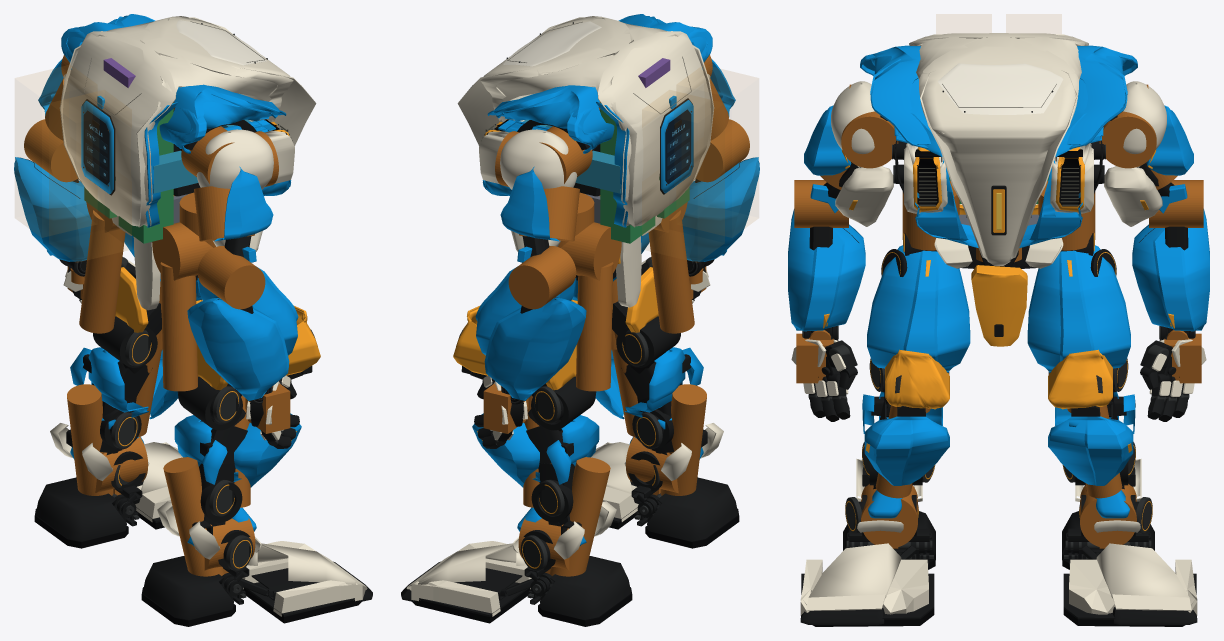
Rendered from internal_architecture_a_central_hydraulic.glb.
The picture shows the model from 3 angles, left to right: view 1: azimuth 30°, elevation 25°; view 2: azimuth 150°, elevation 25°; view 3: azimuth 270°, elevation 25°; orthographic projection. The views are drawn at different scales.
Visible parts, largest first — view 1: continuous_ivory_torso_armor_cover, internal_ia_right_battery_removal_space_envelope, right_blue_forearm_wrap, internal_ia_left_battery_removal_space_envelope, left_blue_forearm_wrap, right_ivory_hood_window_side_lip, internal_ia_central_hydraulic_right_hip_pitch_envelope, internal_ia_central_hydraulic_left_hip_pitch_envelope, left_composite_high_heel_shell, right_composite_high_heel_shell, right_ivory_shoulder_cap, internal_ia_central_hydraulic_right_ankle_pitch_envelope (+59 smaller); view 2: continuous_ivory_torso_armor_cover, internal_ia_left_battery_removal_space_envelope, left_blue_forearm_wrap, internal_ia_right_battery_removal_space_envelope, right_blue_forearm_wrap, left_ivory_hood_window_side_lip, internal_ia_central_hydraulic_left_hip_pitch_envelope, internal_ia_central_hydraulic_right_hip_pitch_envelope, right_composite_high_heel_shell, left_composite_high_heel_shell, left_ivory_shoulder_cap, internal_ia_central_hydraulic_left_ankle_pitch_envelope (+59 smaller); view 3: continuous_ivory_torso_armor_cover, left_blue_thigh_wrap, right_blue_thigh_wrap, left_blue_forearm_wrap, right_blue_forearm_wrap, ivory_crown_inset, left_blue_middle_shank_wrap, right_blue_middle_shank_wrap, saffron_front_pelvis_cartridge, left_ivory_artwork_sloping_toe, right_ivory_artwork_sloping_toe, left_yellow_front_knee_insert (+51 smaller).
Boxes of the visible parts, x1=… form: continuous_ivory_torso_armor_cover: x1=63, y1=16, x2=293, y2=226; internal_ia_right_battery_removal_space_envelope: x1=49, y1=90, x2=131, y2=262; right_blue_forearm_wrap: x1=187, y1=298, x2=289, y2=400; internal_ia_left_battery_removal_space_envelope: x1=15, y1=65, x2=96, y2=236; left_blue_forearm_wrap: x1=14, y1=157, x2=91, y2=261; right_ivory_hood_window_side_lip: x1=136, y1=53, x2=316, y2=227; internal_ia_central_hydraulic_right_hip_pitch_envelope: x1=160, y1=262, x2=197, y2=391; internal_ia_central_hydraulic_left_hip_pitch_envelope: x1=79, y1=210, x2=125, y2=333; left_composite_high_heel_shell: x1=35, y1=477, x2=126, y2=541; right_composite_high_heel_shell: x1=143, y1=556, x2=233, y2=619; right_ivory_shoulder_cap: x1=196, y1=129, x2=273, y2=189; internal_ia_central_hydraulic_right_ankle_pitch_envelope: x1=163, y1=457, x2=224, y2=576; continuous_ivory_torso_armor_cover: x1=480, y1=16, x2=710, y2=226; internal_ia_left_battery_removal_space_envelope: x1=642, y1=90, x2=724, y2=262; left_blue_forearm_wrap: x1=484, y1=298, x2=586, y2=400; internal_ia_right_battery_removal_space_envelope: x1=677, y1=65, x2=758, y2=236; right_blue_forearm_wrap: x1=682, y1=157, x2=759, y2=261; left_ivory_hood_window_side_lip: x1=457, y1=53, x2=637, y2=227; internal_ia_central_hydraulic_left_hip_pitch_envelope: x1=576, y1=262, x2=613, y2=391; internal_ia_central_hydraulic_right_hip_pitch_envelope: x1=648, y1=210, x2=694, y2=333; right_composite_high_heel_shell: x1=647, y1=477, x2=738, y2=541; left_composite_high_heel_shell: x1=540, y1=556, x2=630, y2=619; left_ivory_shoulder_cap: x1=500, y1=129, x2=577, y2=189; internal_ia_central_hydraulic_left_ankle_pitch_envelope: x1=549, y1=457, x2=610, y2=576; continuous_ivory_torso_armor_cover: x1=909, y1=33, x2=1088, y2=265; left_blue_thigh_wrap: x1=1027, y1=245, x2=1130, y2=372; right_blue_thigh_wrap: x1=867, y1=245, x2=970, y2=372; left_blue_forearm_wrap: x1=1132, y1=209, x2=1209, y2=331; right_blue_forearm_wrap: x1=788, y1=209, x2=865, y2=331; ivory_crown_inset: x1=938, y1=63, x2=1063, y2=114; left_blue_middle_shank_wrap: x1=1048, y1=416, x2=1133, y2=485; right_blue_middle_shank_wrap: x1=864, y1=416, x2=949, y2=485; saffron_front_pelvis_cartridge: x1=971, y1=265, x2=1027, y2=346; left_ivory_artwork_sloping_toe: x1=1096, y1=543, x2=1189, y2=598; right_ivory_artwork_sloping_toe: x1=808, y1=543, x2=901, y2=598; left_yellow_front_knee_insert: x1=1048, y1=349, x2=1112, y2=409.
Bounding box in the file's own units: 1.34 × 2.65 × 1.93.
